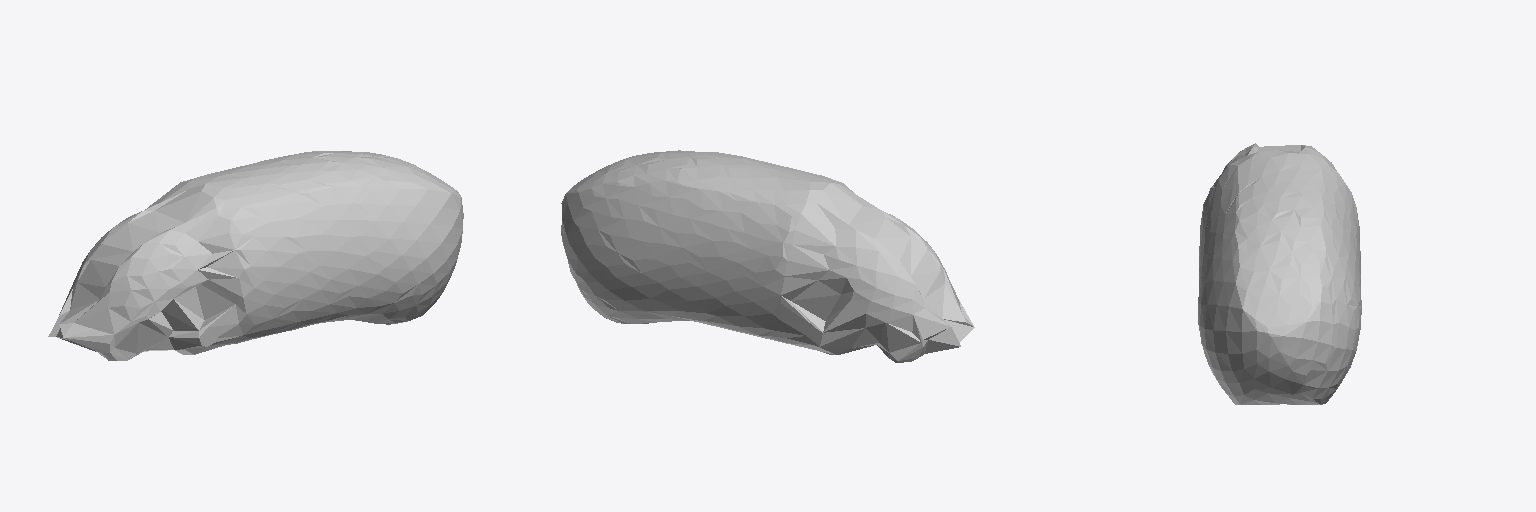
File: sim_ecub_l_hand_thumb_3.obj
3 renders of one model, left to right at view 1: azimuth 30°, elevation 25°; view 2: azimuth 150°, elevation 25°; view 3: azimuth 270°, elevation 25°, orthographic.
Size of the model in its own units: 49.09 by 18.82 by 17.36.